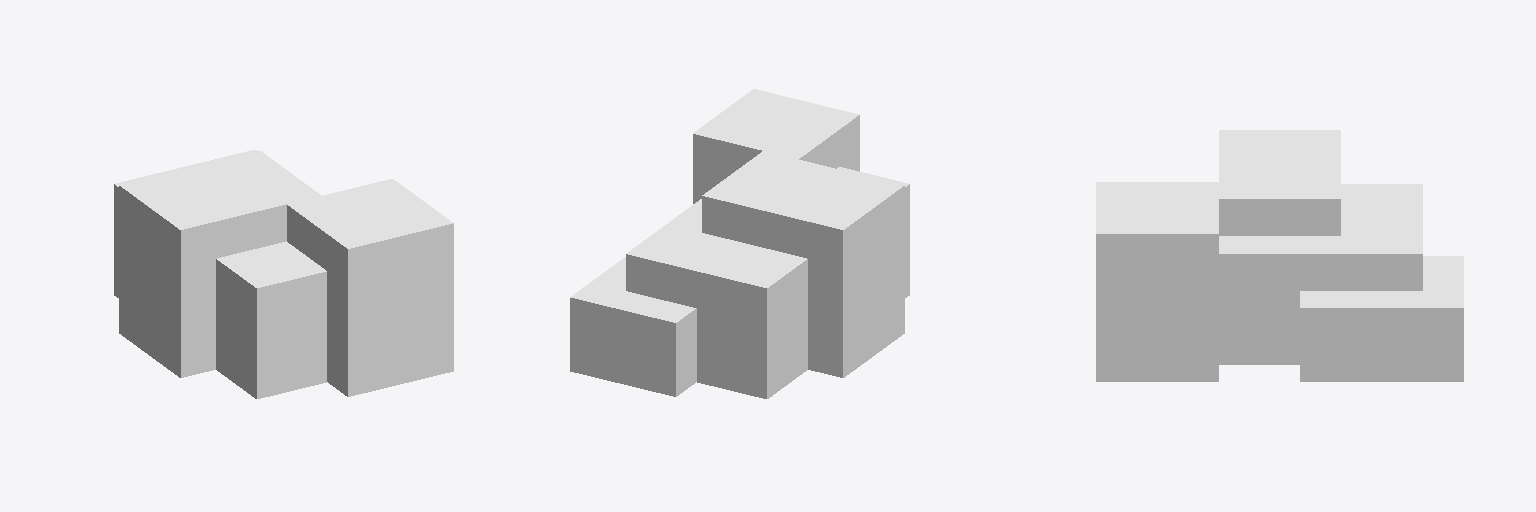
File: Brush-1.obj
3 renders of one model, left to right at view 1: azimuth 30°, elevation 25°; view 2: azimuth 150°, elevation 25°; view 3: azimuth 270°, elevation 25°, orthographic.
Visible parts, largest first — view 1: object 1; view 2: object 1; view 3: object 1.
Part boxes in pixels (x1,y1,x2,y2): object 1: (114, 150, 453, 398); object 1: (570, 89, 909, 398); object 1: (1096, 130, 1463, 381).
Size of the model in its own units: 0.6 by 0.4 by 0.9.